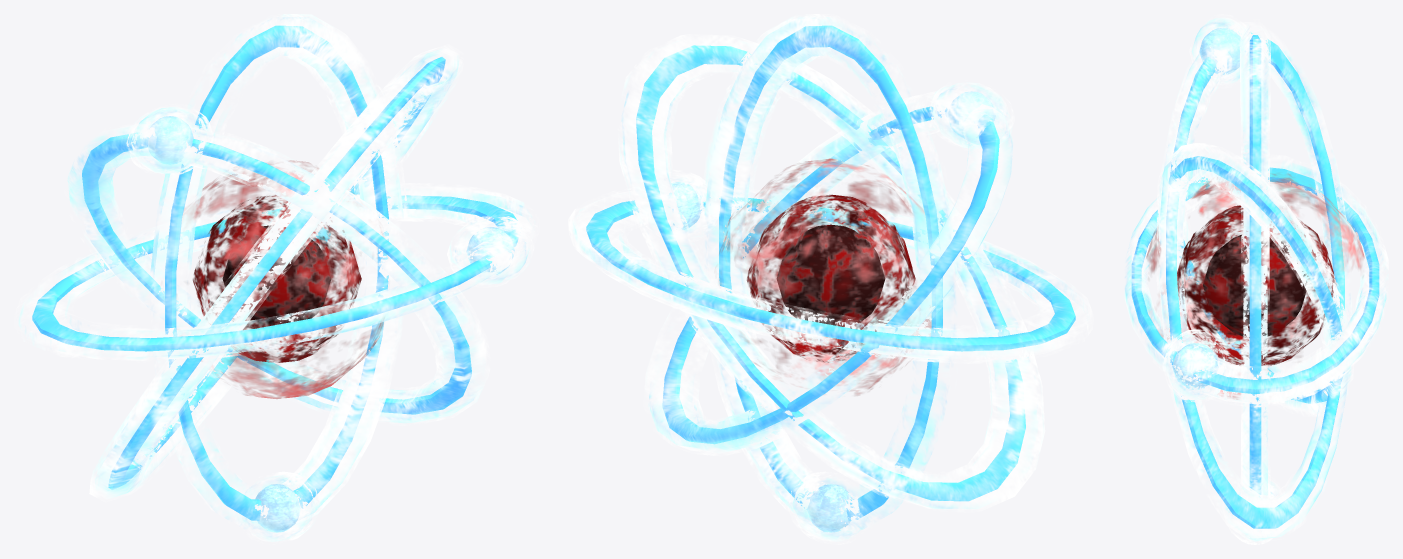
The model's file is shieldModel.glb.
3 views of the same model, side by side, from view 1: azimuth 30°, elevation 25°; view 2: azimuth 150°, elevation 25°; view 3: azimuth 270°, elevation 25° (orthographic). The views are drawn at different scales.
Visible parts, largest first — view 1: Object_2; view 2: Object_2; view 3: Object_2.
Part boxes in pixels (bbox=[...]): Object_2: bbox=[16, 14, 539, 544]; Object_2: bbox=[568, 14, 1093, 544]; Object_2: bbox=[1124, 14, 1388, 544].
Size of the model in its own units: 96.67 by 95.62 by 45.35.
Materials: 1 (1 with a texture image).
